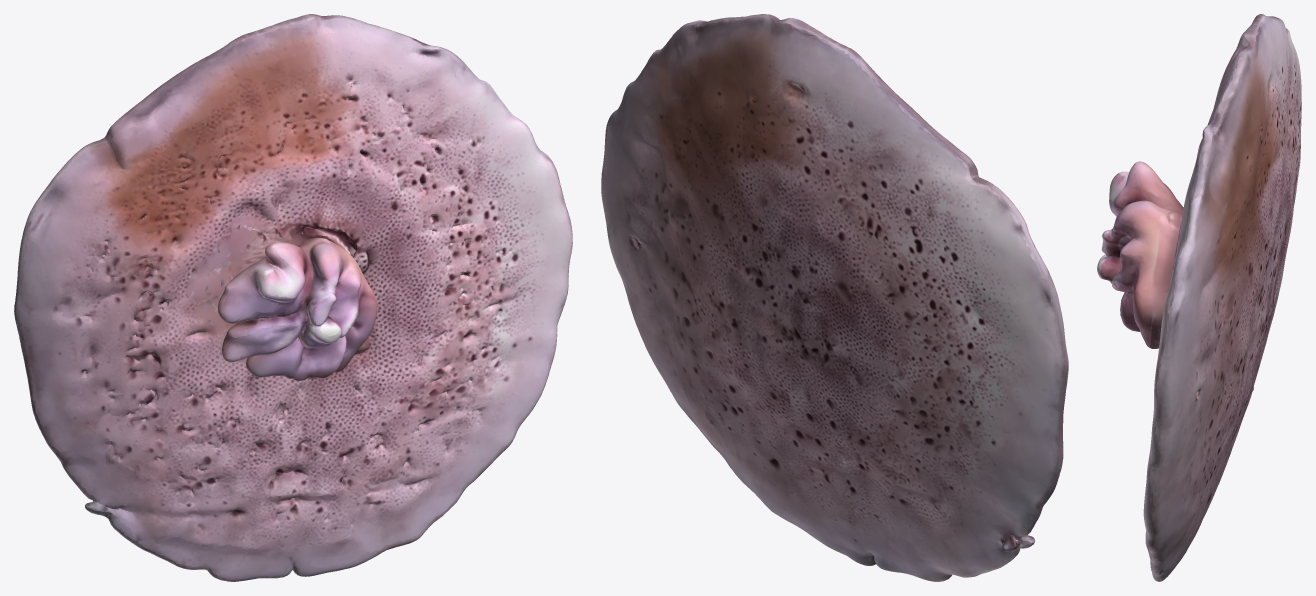
File: shelf-fungus-v12.glb
3 views of the same model, side by side, from view 1: azimuth 30°, elevation 25°; view 2: azimuth 150°, elevation 25°; view 3: azimuth 270°, elevation 25° (orthographic). The views are drawn at different scales.
Visible parts, largest first — view 1: geometry_0; view 2: geometry_0; view 3: geometry_0.
Boxes of the visible parts, <box> form: geometry_0: <box>14,14,572,581</box>; geometry_0: <box>601,14,1068,581</box>; geometry_0: <box>1097,14,1301,581</box>.
Bounding box in the file's own units: 0.12 × 0.1215 × 0.0422.
Materials: 1 (1 with a texture image).
